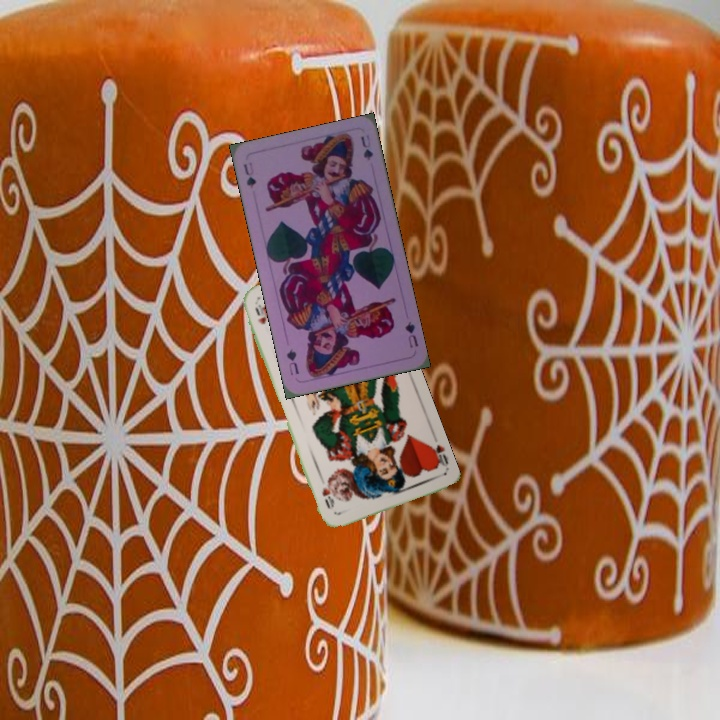GU: (401, 317, 421, 350), (239, 158, 259, 191)
HO: (424, 440, 451, 472), (251, 298, 269, 327)
